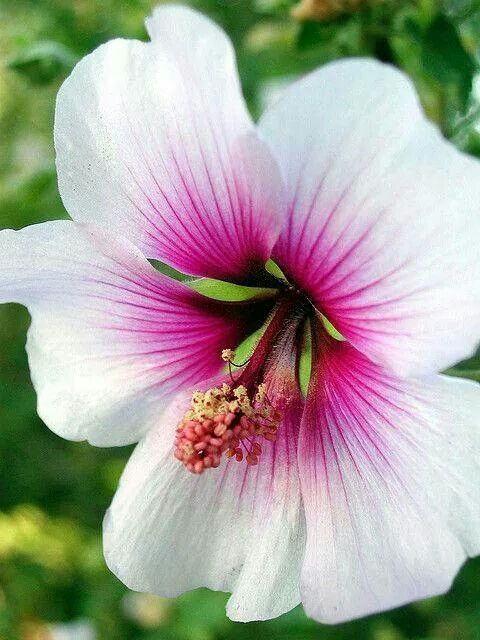Hibiscus: (1, 1, 480, 619)
